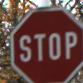Stop sign: (0, 0, 82, 82)
